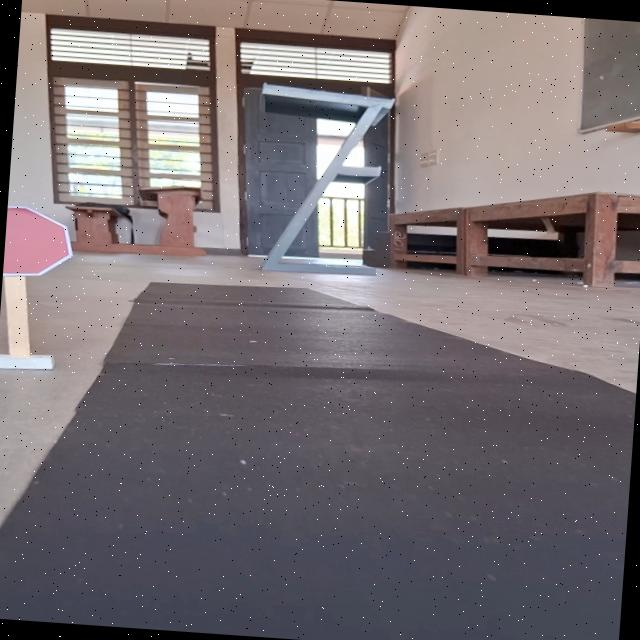Stop: (2, 200, 78, 282)
